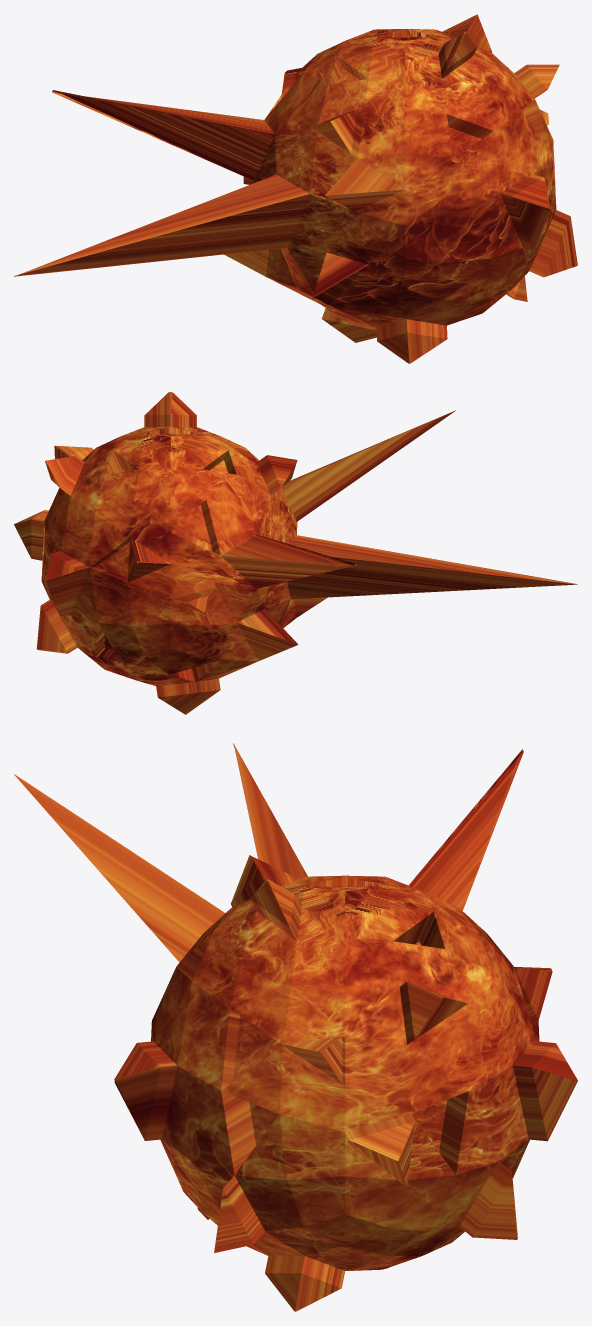
File: spellchase fireball.fbx
The picture shows the model from 3 angles, top to bottom: view 1: azimuth 30°, elevation 25°; view 2: azimuth 150°, elevation 25°; view 3: azimuth 270°, elevation 25°; orthographic projection. The views are drawn at different scales.
Parts seen in each view (by area): view 1: GeoSphere001; view 2: GeoSphere001; view 3: GeoSphere001.
Part boxes in pixels (left/top/right/bottom): GeoSphere001: left=14, top=14, right=577, bottom=363; GeoSphere001: left=14, top=392, right=577, bottom=714; GeoSphere001: left=14, top=743, right=577, bottom=1311.
Size of the model in its own units: 84.97 by 53.3 by 44.78.
Materials: 1 (1 with a texture image).
